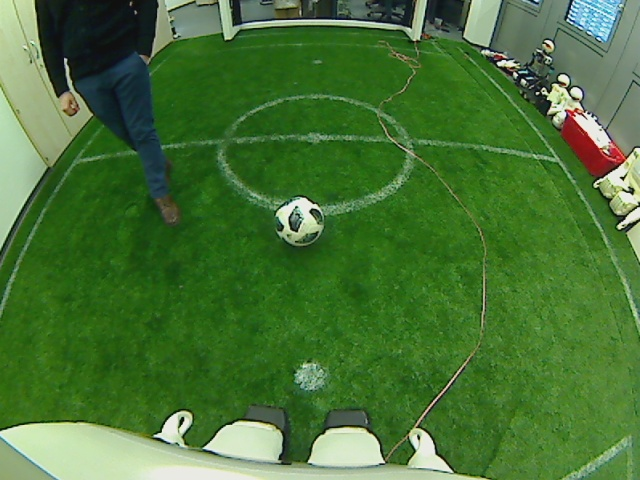ball: (273, 195, 325, 246)
